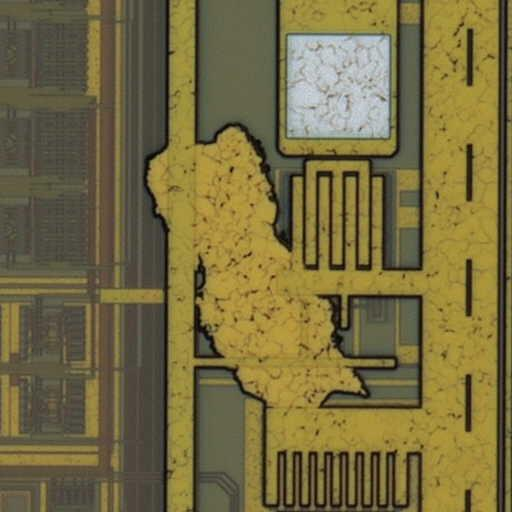BLOCK ETCH: (139, 119, 375, 418)
